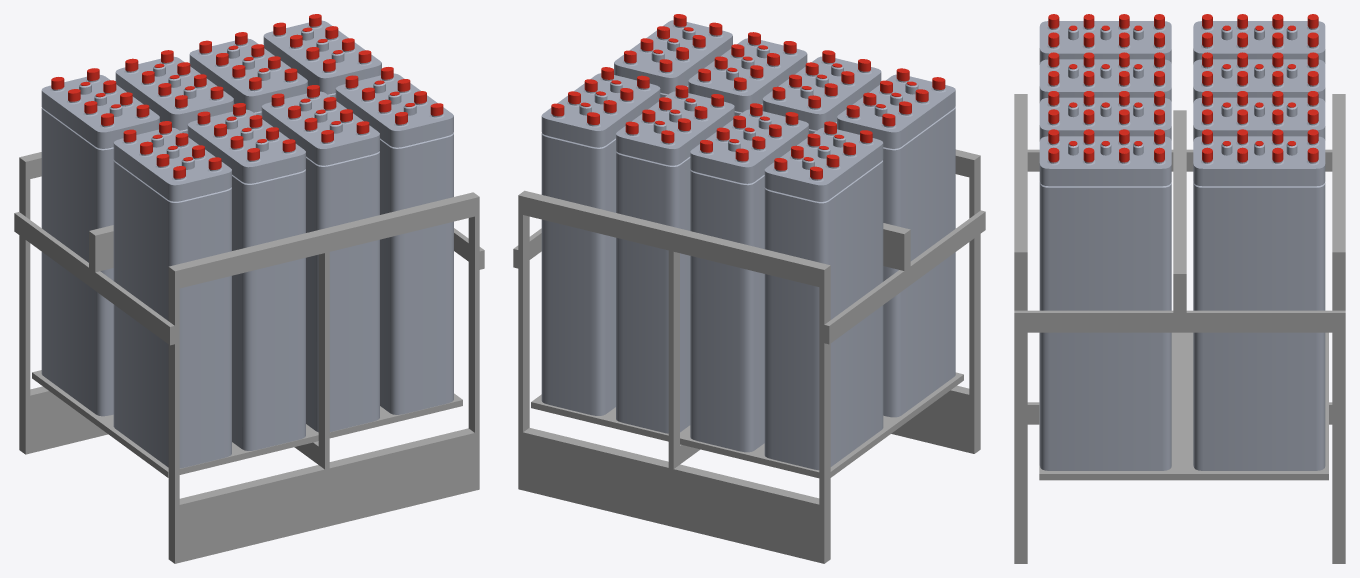
3 renders of one model, left to right at view 1: azimuth 30°, elevation 25°; view 2: azimuth 150°, elevation 25°; view 3: azimuth 270°, elevation 25°, orthographic. The views are drawn at different scales.
Parts seen in each view (by area): view 1: RM1-BH08W070D060; view 2: RM1-BH08W070D060; view 3: RM1-BH08W070D060.
Boxes of the visible parts, box(x1,y1,x2,y2) form: RM1-BH08W070D060: box(14, 14, 484, 563); RM1-BH08W070D060: box(513, 14, 985, 563); RM1-BH08W070D060: box(1014, 14, 1345, 563).
Bounding box in the file's own units: 0.7 × 0.8 × 0.6.
